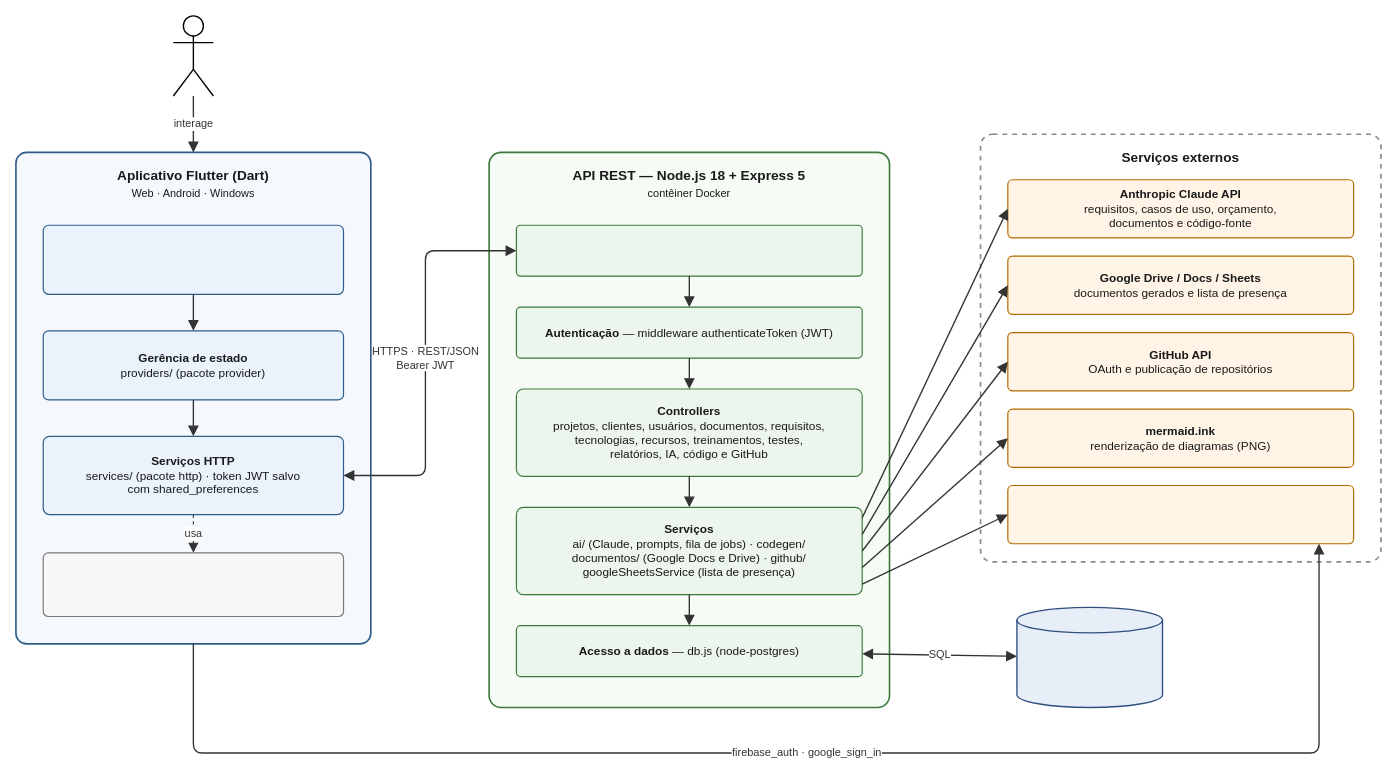
The diagram is 1398 pixels wide and 779 high, and some of its shapes have lost their labels. The centre of each missing label's shape, as x and y in pixels:
"Firebase Authentication login com conta Google" belongs at (x=1180, y=514).
"Modelos models/ (fromJson / toJson)" belongs at (x=193, y=584).
"PostgreSQL 17 tabelas" belongs at (x=1089, y=657).
"Rotas /api/* (app.js) · CORS · JSON" belongs at (x=688, y=250).
"Telas e componentes screens/ · Widgets/ (Material Design)" belongs at (x=193, y=259).
"Usuário" belongs at (x=193, y=55).
